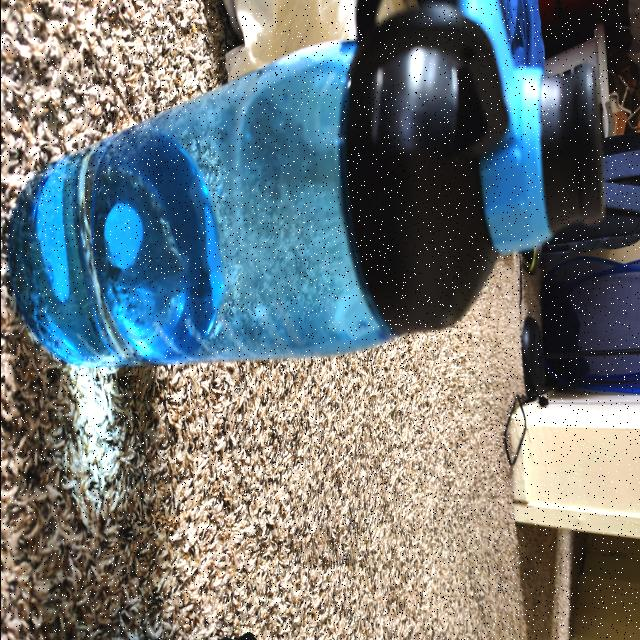bottle: (16, 0, 598, 378)
